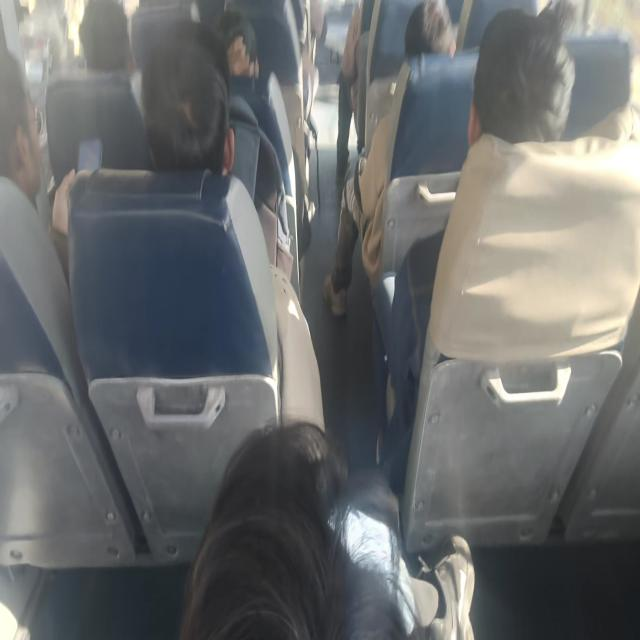person: (379, 4, 576, 490), (137, 16, 326, 430), (180, 419, 412, 639), (323, 0, 456, 318), (138, 18, 282, 270), (0, 46, 86, 403), (45, 0, 152, 187), (216, 9, 294, 263), (140, 19, 235, 174), (334, 1, 362, 186), (404, 0, 456, 58), (218, 9, 260, 80)
